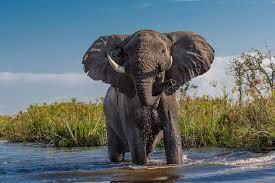elephant: (83, 29, 214, 163)
